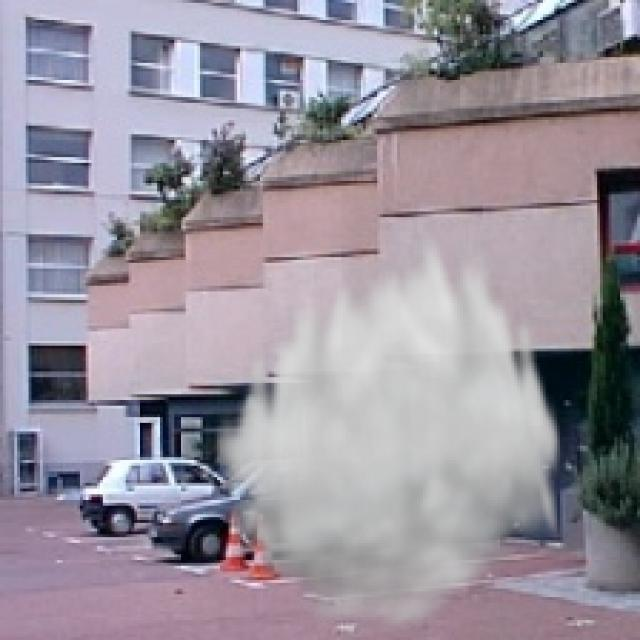Smoke: (208, 220, 566, 637)
